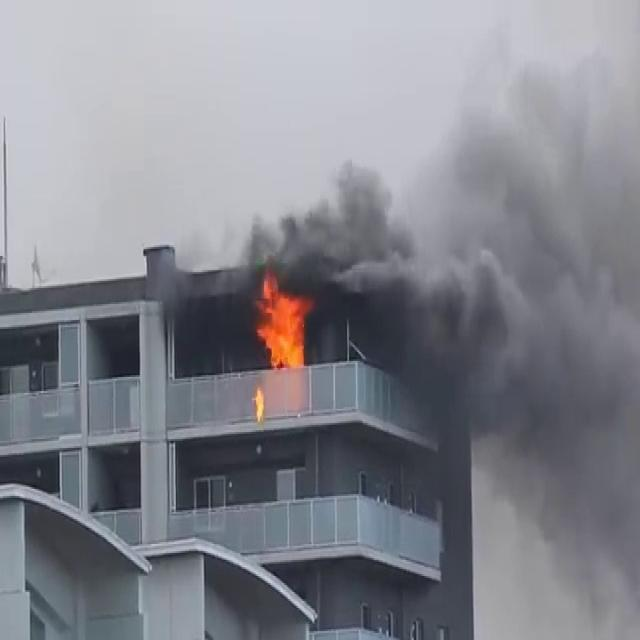Fire: (249, 271, 317, 373)
Smoke: (403, 21, 640, 585), (230, 142, 485, 300)
